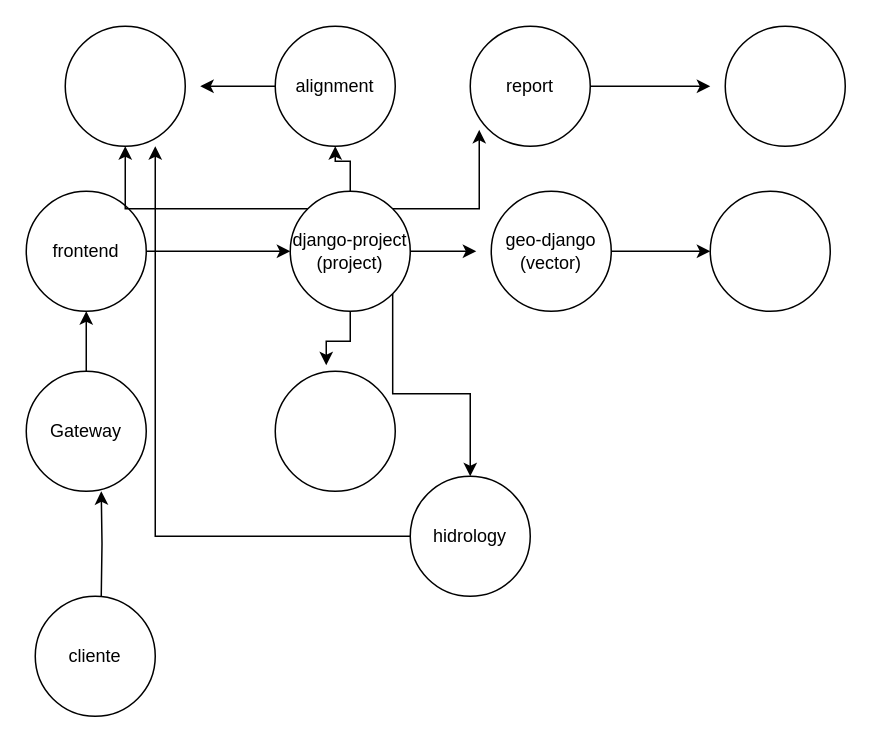
The diagram is 872 pixels wide and 743 high, and some of its shapes have lost their labels. The centre of each missing label's shape, as x and y in pixels:
"corridor" goes at [334,430].
"osm-data" goes at [769,250].
"osm-tile" goes at [784,85].
"raster" goes at [124,85].
